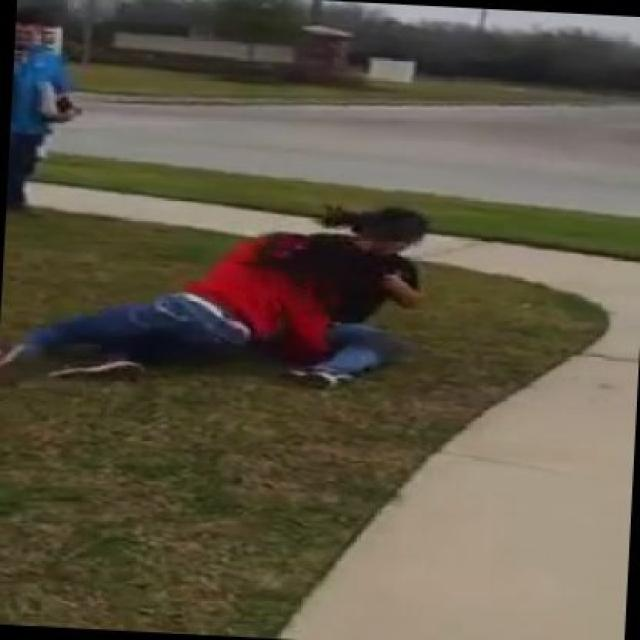fight: (0, 204, 440, 391)
non-fight: (11, 7, 78, 210)
